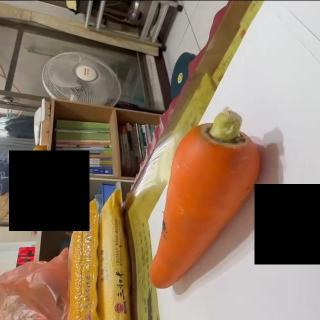carrot: (148, 107, 262, 289)
